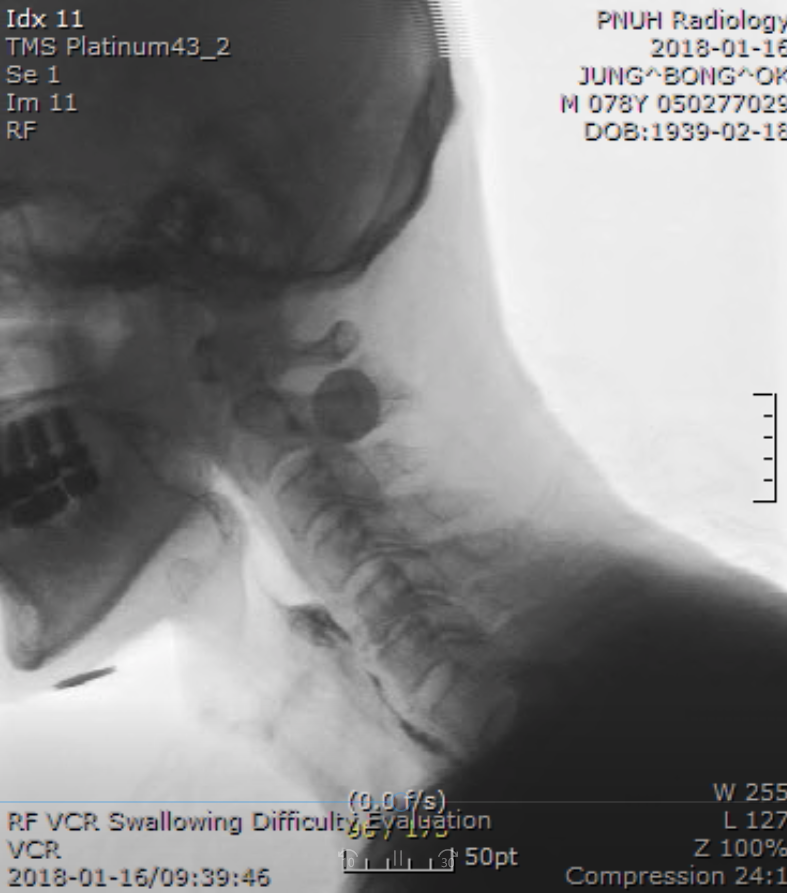dros: (258, 562, 330, 618)
food: (254, 581, 348, 656)
uros: (186, 496, 248, 540)
